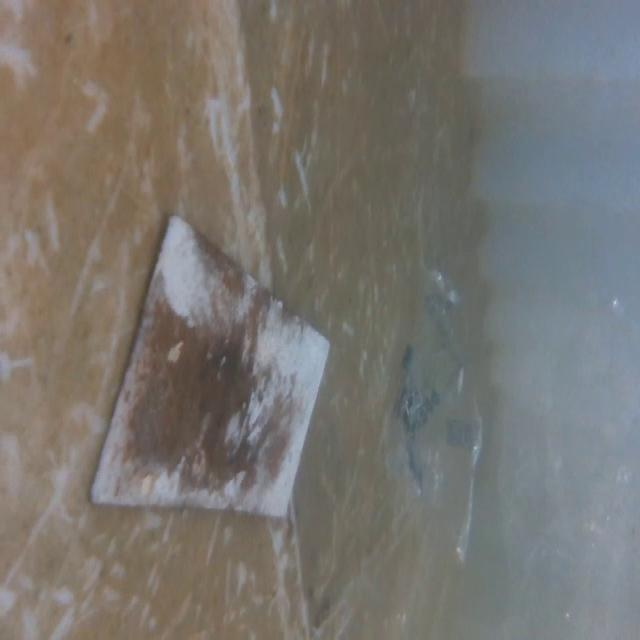plastic bags: (383, 262, 487, 566)
